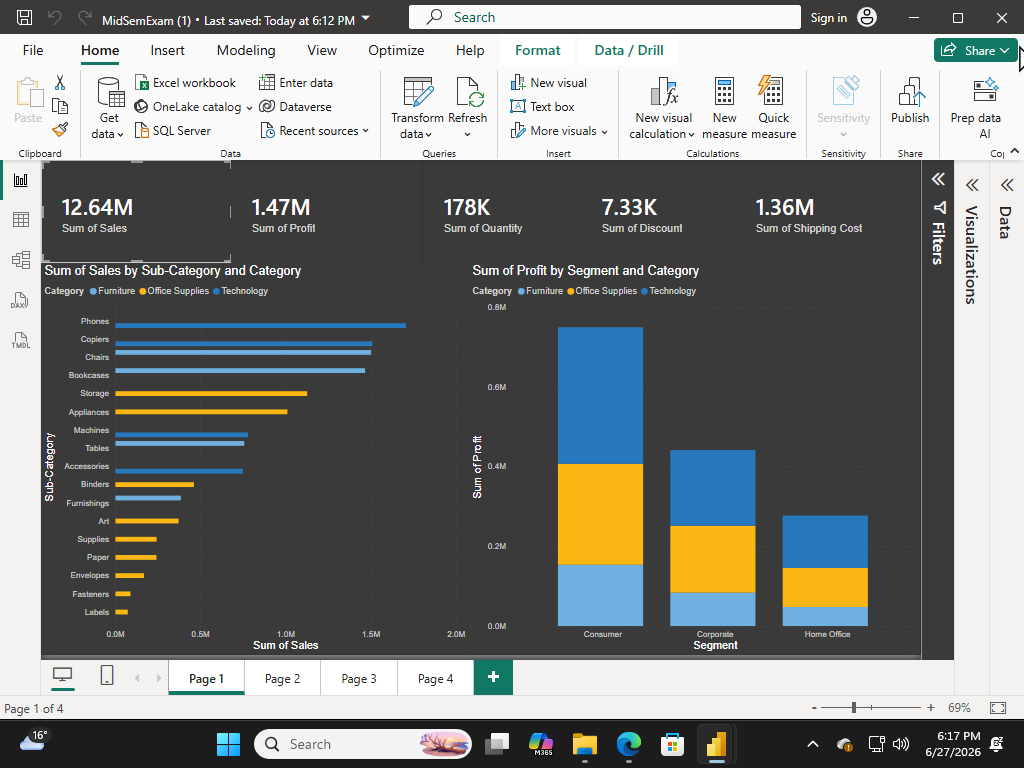

Layout of this report page (visuals, bound fields, positions):
{"tool":"powerbi","page":{"name":"Page 1","canvas":[1280,720],"ordinal":0},"visuals":[{"type":"cardVisual","fields":{"Data":["Sum(Orders.Sales)"]},"box":[0,0,278.6,150.2],"z":0},{"type":"cardVisual","fields":{"Data":["Sum(Orders.Profit)"]},"box":[276.5,0,278.6,150.2],"z":1},{"type":"cardVisual","fields":{"Data":["Sum(Orders.Quantity)"]},"box":[555.1,0,230.7,150.2],"z":2},{"type":"clusteredBarChart","fields":{"Category":["Orders.Sub-Category"],"Y":["Sum(Orders.Sales)"],"Series":["Orders.Category"]},"box":[0,150.2,622.6,570.3],"z":3},{"type":"columnChart","fields":{"Category":["Orders.Segment"],"Y":["Sum(Orders.Profit)"],"Series":["Orders.Category"]},"box":[622.6,150.2,657.4,570.3],"z":4},{"type":"cardVisual","fields":{"Data":["Sum(Orders.Discount)"]},"box":[785.9,0,224.2,150.2],"z":5},{"type":"cardVisual","fields":{"Data":["Sum(Orders.Shipping Cost)"]},"box":[1010,0,270,150],"z":6}]}

Visuals, with their boxes on the page's 1280x720 design canvas (x1, y1, x2, y2). These are canvas units, not pixel positions in the 1024x768 screenshot, which may show the page scaled, cropped or inside an application window:
cardVisual - Sum(Orders.Sales): 0:0:279:150
cardVisual - Sum(Orders.Profit): 276:0:555:150
cardVisual - Sum(Orders.Quantity): 555:0:786:150
clusteredBarChart - Orders.Sub-Category x Sum(Orders.Sales): 0:150:623:720
columnChart - Orders.Segment x Sum(Orders.Profit): 623:150:1280:720
cardVisual - Sum(Orders.Discount): 786:0:1010:150
cardVisual - Sum(Orders.Shipping Cost): 1010:0:1280:150
